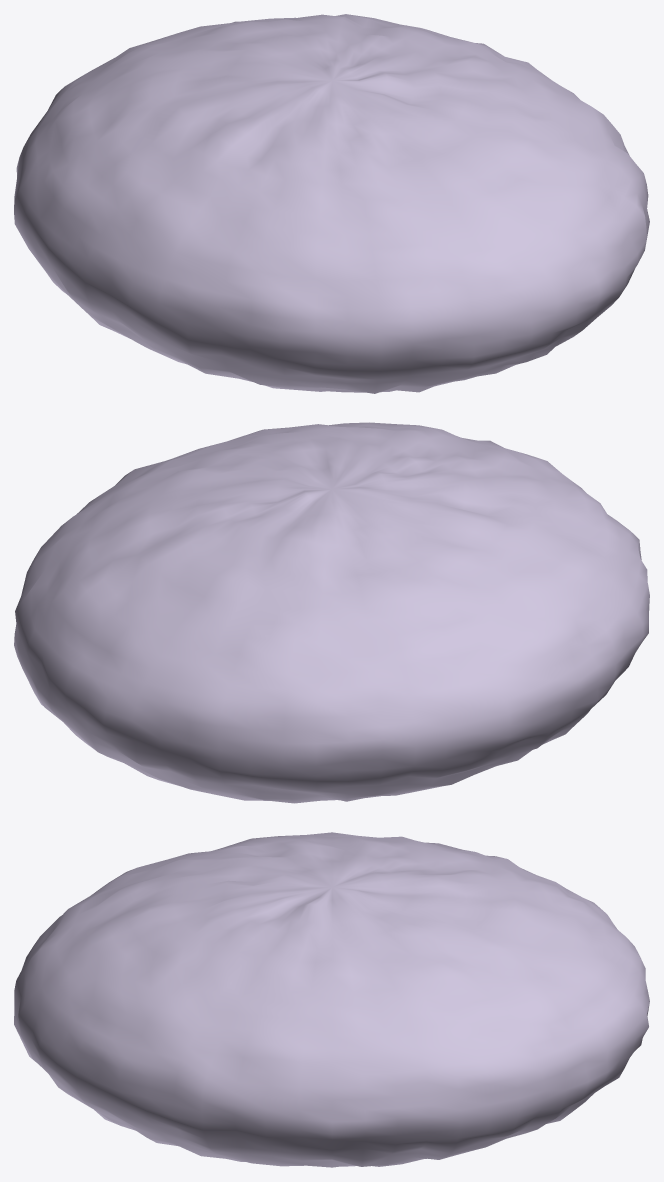
File: stage_brain.glb
3 renders of one model, top to bottom at view 1: azimuth 30°, elevation 25°; view 2: azimuth 150°, elevation 25°; view 3: azimuth 270°, elevation 25°, orthographic. The views are drawn at different scales.
Parts seen in each view (by area): view 1: BrainRoom; view 2: BrainRoom; view 3: BrainRoom.
Part boxes in pixels (x1,y1,x2,y2): BrainRoom: (14,14,649,393); BrainRoom: (14,422,649,803); BrainRoom: (14,832,649,1167).
Bounding box in the file's own units: 68.73 × 30.8 × 75.96.
